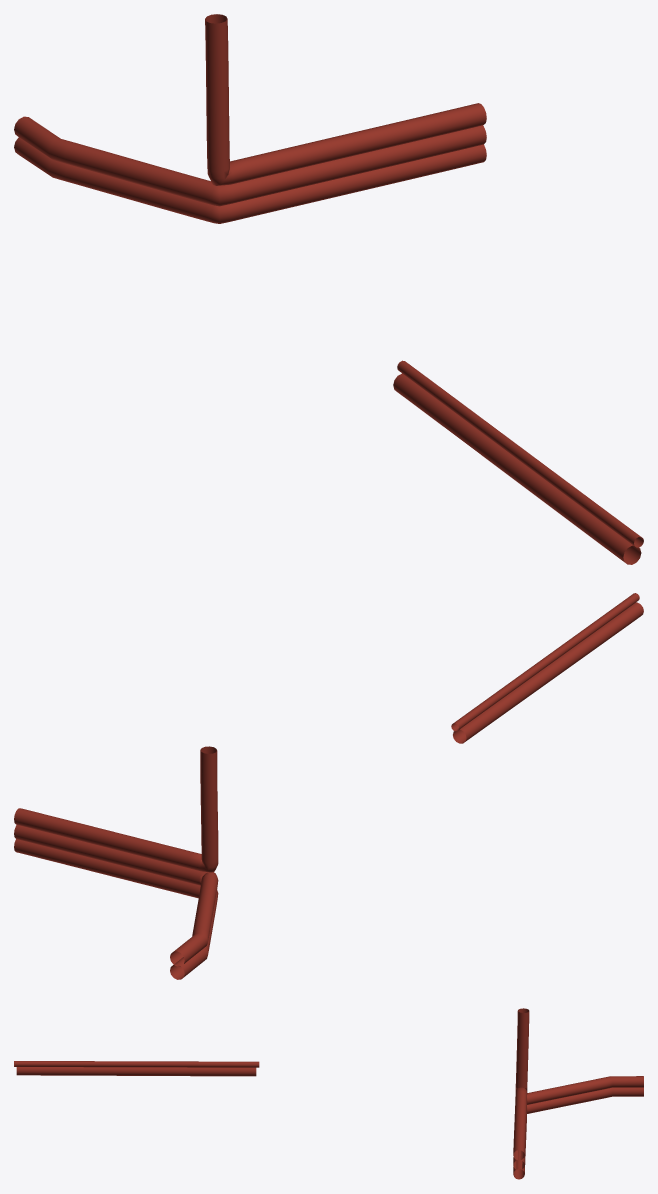
The model's file is SpaceShipPipes.glb.
3 renders of one model, top to bottom at view 1: azimuth 30°, elevation 25°; view 2: azimuth 150°, elevation 25°; view 3: azimuth 270°, elevation 25°, orthographic. The views are drawn at different scales.
Parts seen in each view (by area): view 1: NurbsPath.001, NurbsPath.002, NurbsPath, NurbsPath.003, NurbsPath.004; view 2: NurbsPath.002, NurbsPath.001, NurbsPath, NurbsPath.003, NurbsPath.004; view 3: NurbsPath.003, NurbsPath.002, NurbsPath.004, NurbsPath.001, NurbsPath.
Boxes of the visible parts, x1,y1,x2,y2 form: NurbsPath.001: (14, 116, 486, 206); NurbsPath.002: (205, 14, 486, 185); NurbsPath: (14, 137, 486, 223); NurbsPath.003: (393, 373, 641, 564); NurbsPath.004: (397, 360, 643, 547); NurbsPath.002: (14, 746, 218, 872); NurbsPath.001: (14, 825, 218, 966); NurbsPath: (14, 839, 218, 979); NurbsPath.003: (453, 602, 643, 743); NurbsPath.004: (451, 593, 639, 731); NurbsPath.003: (16, 1067, 256, 1076); NurbsPath.002: (513, 1008, 529, 1160); NurbsPath.004: (14, 1061, 259, 1067); NurbsPath.001: (513, 1076, 643, 1170); NurbsPath: (513, 1087, 643, 1179).
Bounding box in the file's own units: 4.61 × 2.58 × 14.09.
